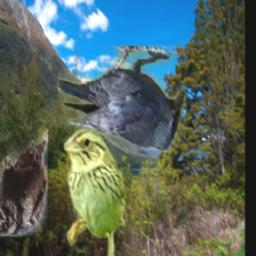Crow: (57, 46, 185, 151), (0, 120, 48, 237)
Sparrow: (63, 129, 126, 256)
